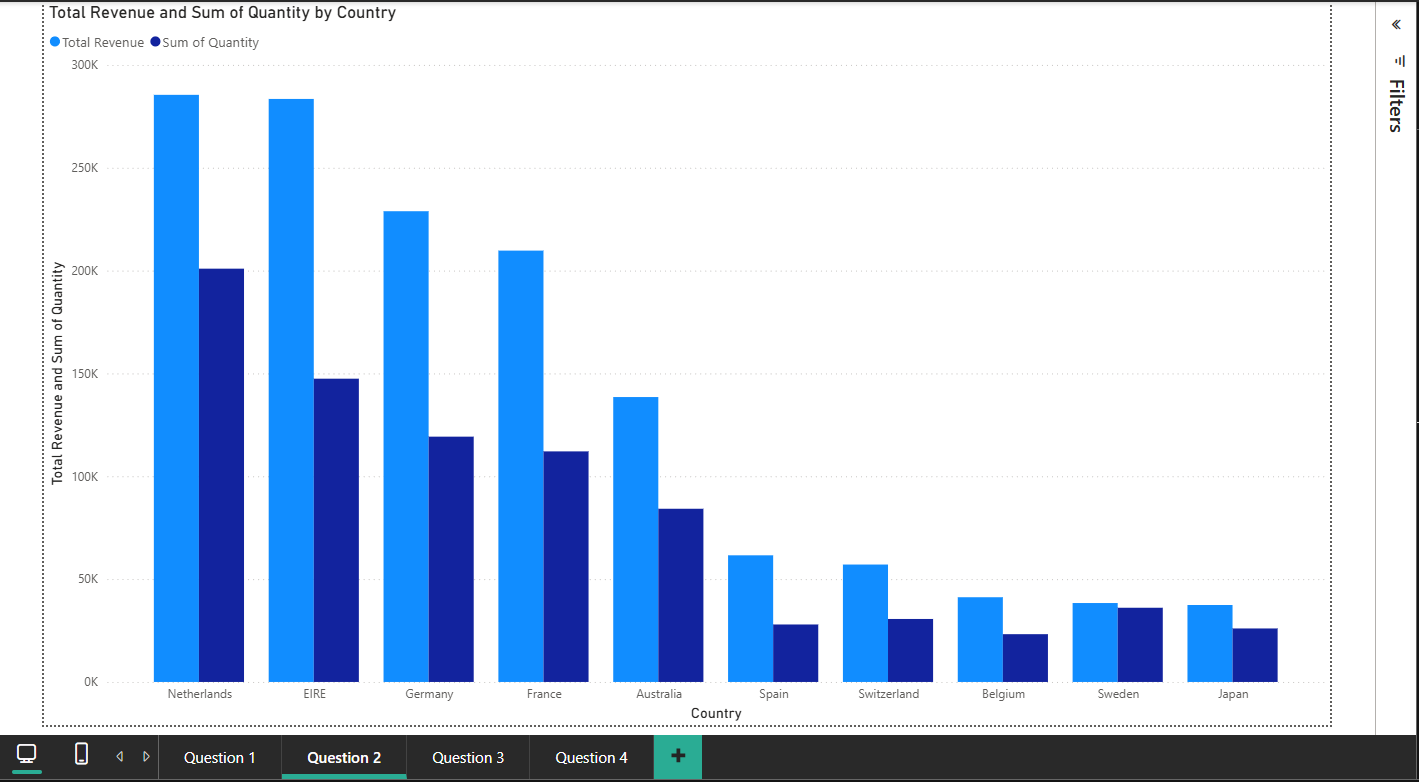

Layout of this report page (visuals, bound fields, positions):
{"tool":"powerbi","page":{"name":"Question 2","canvas":[1280,720],"ordinal":1},"visuals":[{"type":"clusteredColumnChart","fields":{"Category":["Online Retail.Country"],"Y":["Online Retail.Total Revenue","Sum(Online Retail.Quantity)"]},"box":[0,0,1280.3,720.4],"z":0}]}

Visuals, with their boxes on the page's 1280x720 design canvas (x1, y1, x2, y2). These are canvas units, not pixel positions in the 1419x782 screenshot, which may show the page scaled, cropped or inside an application window:
clusteredColumnChart - Online Retail.Country x Online Retail.Total Revenue: 0 0 1280 720
